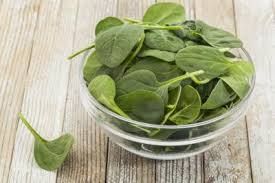spinach: (127, 35, 220, 116)
